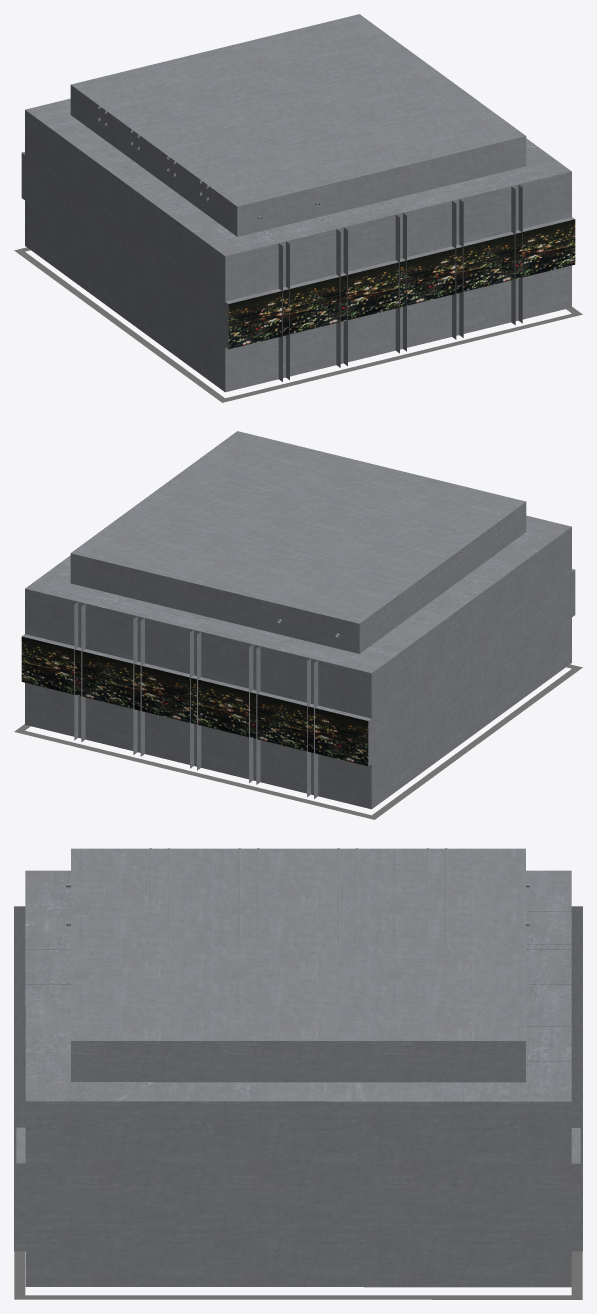
Rendered from studio.fbx.
3 views of the same model, one above another, from view 1: azimuth 30°, elevation 25°; view 2: azimuth 150°, elevation 25°; view 3: azimuth 270°, elevation 25° (orthographic). The views are drawn at different scales.
Visible parts, largest first — view 1: Walls, Ground, ceiling; view 2: Walls, Ground, ceiling; view 3: Walls, Ground, ceiling.
Boxes of the visible parts, <box> form: Walls: <box>21,14,574,392</box>; Ground: <box>14,98,582,402</box>; ceiling: <box>98,70,386,220</box>; Walls: <box>22,431,575,809</box>; Ground: <box>14,515,582,819</box>; ceiling: <box>210,487,498,637</box>; Walls: <box>14,848,582,1287</box>; Ground: <box>14,870,582,1299</box>; ceiling: <box>66,848,529,944</box>.
Size of the model in its own units: 1248 by 570 by 1250.
